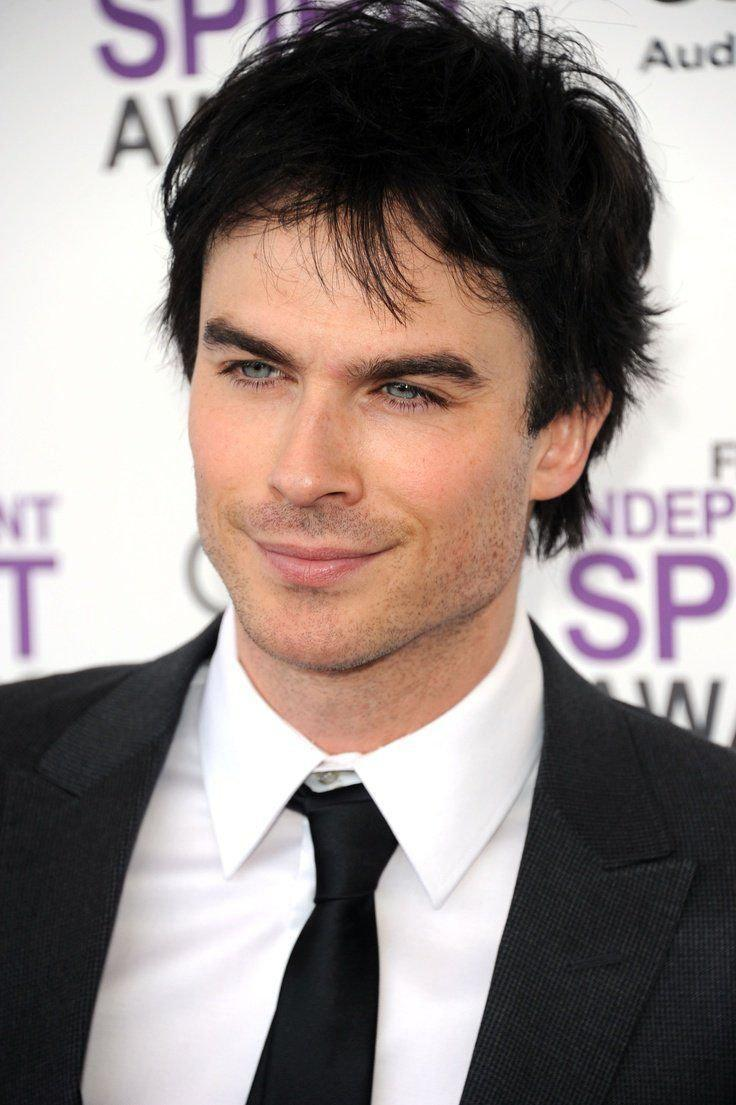Sober: (191, 208, 526, 657)
